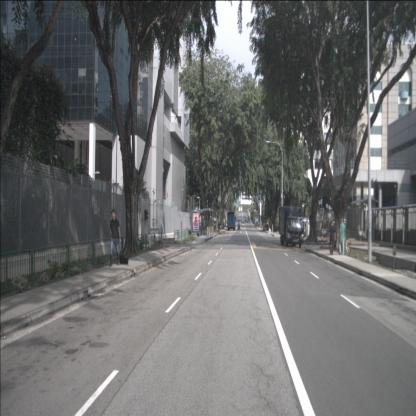human-pedestrian-adult: (108, 210, 128, 268), (338, 218, 346, 256), (328, 220, 336, 256), (218, 221, 220, 233)
vehicle-bicycle: (338, 232, 350, 256)
vehicle-bus-rigid: (228, 212, 235, 230)
vehicle-truck: (278, 206, 303, 248)
